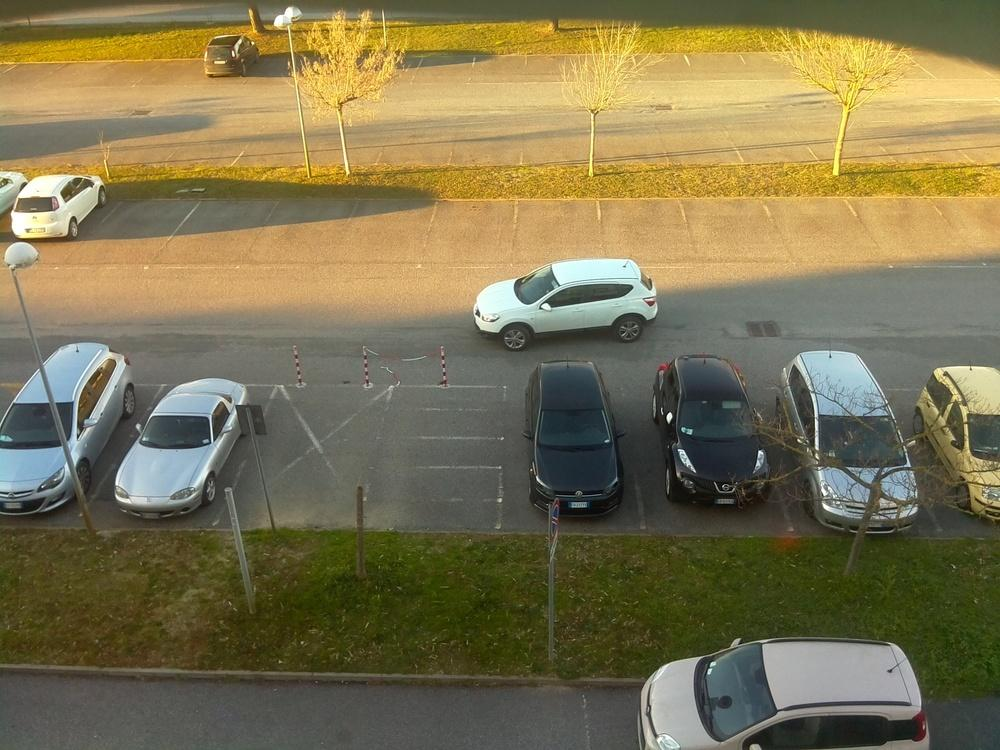empty: (644, 635, 949, 750), (646, 354, 796, 509), (7, 342, 128, 518), (111, 377, 254, 517), (522, 356, 638, 512), (480, 257, 661, 352), (779, 360, 916, 465), (931, 373, 998, 513), (809, 472, 927, 532), (7, 177, 114, 243), (197, 29, 260, 81), (3, 171, 25, 230)
occupied: (756, 183, 864, 261), (841, 188, 953, 262), (676, 187, 778, 259), (344, 184, 434, 254), (590, 190, 690, 253), (426, 189, 522, 246), (510, 191, 604, 241), (189, 200, 266, 259), (272, 196, 354, 251), (658, 133, 746, 180), (444, 123, 528, 171), (799, 128, 888, 167), (462, 47, 528, 88), (727, 136, 811, 166), (377, 137, 454, 169), (412, 51, 476, 89), (520, 47, 581, 86), (903, 47, 981, 77), (163, 141, 246, 169), (684, 49, 754, 82), (629, 51, 694, 81), (121, 204, 181, 234)
